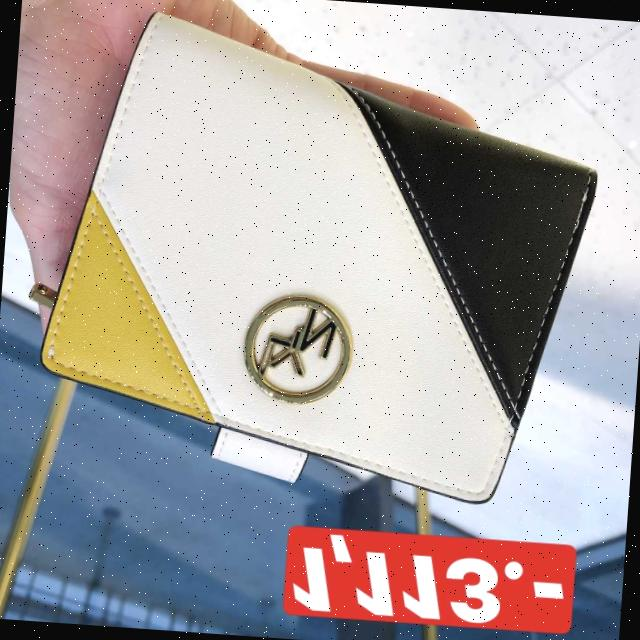Handbag: (31, 3, 610, 513)
